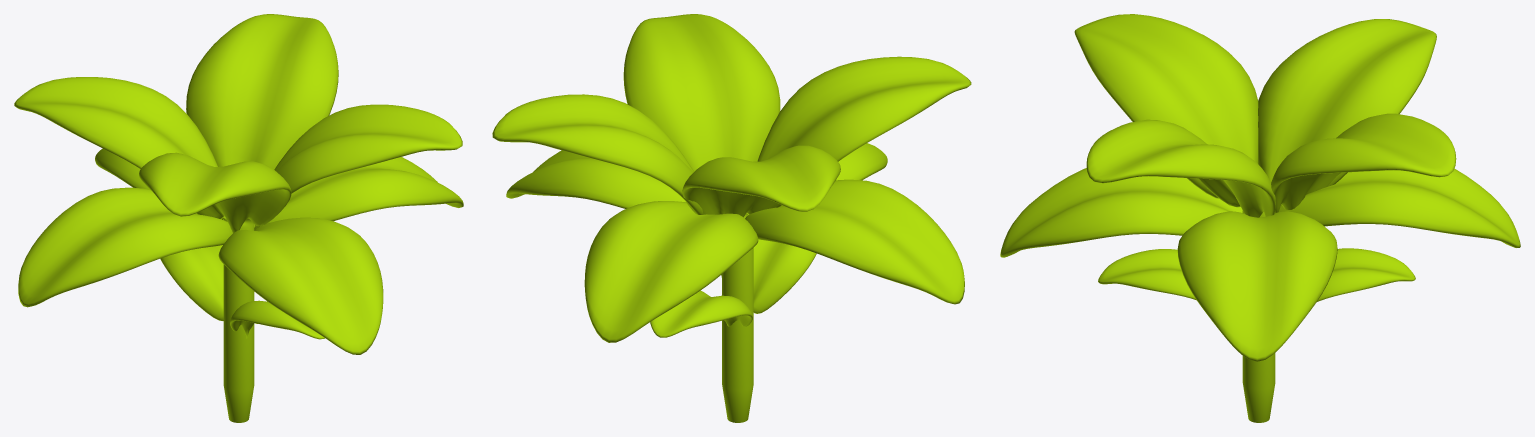
Rendered from plantinha_3d.glb.
The picture shows the model from 3 angles, left to right: view 1: azimuth 30°, elevation 25°; view 2: azimuth 150°, elevation 25°; view 3: azimuth 270°, elevation 25°; orthographic projection. The views are drawn at different scales.
Visible parts, largest first — view 1: Plane.007, Plane, Plane.004, Plane.005, Plane.001, Plane.006, Plane.003, Cylinder, Plane.008, Plane.009, Plane.002; view 2: Plane.001, Plane.002, Plane.004, Plane.006, Plane.007, Plane.005, Plane.003, Cylinder, Plane.009, Plane.008, Plane; view 3: Plane.003, Plane.006, Plane.005, Plane, Plane.002, Plane.001, Plane.007, Plane.009, Plane.008, Cylinder.
Part boxes in pixels (x1,y1,x2,y2): Plane.007: (186, 14, 338, 169); Plane: (218, 217, 383, 354); Plane.004: (18, 187, 232, 307); Plane.005: (14, 77, 222, 219); Plane.001: (255, 104, 462, 226); Plane.006: (139, 152, 291, 232); Plane.003: (254, 157, 463, 229); Cylinder: (223, 218, 254, 422); Plane.008: (160, 245, 223, 320); Plane.009: (230, 300, 324, 339); Plane.002: (95, 148, 225, 220); Plane.001: (623, 14, 780, 171); Plane.002: (584, 201, 758, 342); Plane.004: (745, 179, 964, 304); Plane.006: (757, 56, 971, 161); Plane.007: (492, 94, 703, 214); Plane.005: (682, 145, 840, 217); Plane.003: (506, 150, 685, 208); Cylinder: (722, 213, 753, 422); Plane.009: (721, 239, 816, 313); Plane.008: (650, 290, 752, 337); Plane: (836, 143, 887, 180); Plane.003: (1177, 211, 1337, 361); Plane.006: (1074, 14, 1258, 198); Plane.005: (1258, 19, 1436, 186); Plane: (1000, 168, 1242, 257); Plane.002: (1279, 168, 1520, 247); Plane.001: (1086, 119, 1275, 217); Plane.007: (1271, 113, 1456, 213); Plane.009: (1098, 249, 1196, 300); Plane.008: (1317, 248, 1415, 301); Cylinder: (1242, 211, 1275, 422).
Size of the model in its own units: 3.63 by 2.52 by 3.54.
